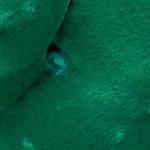alive: (8, 4, 147, 148)
